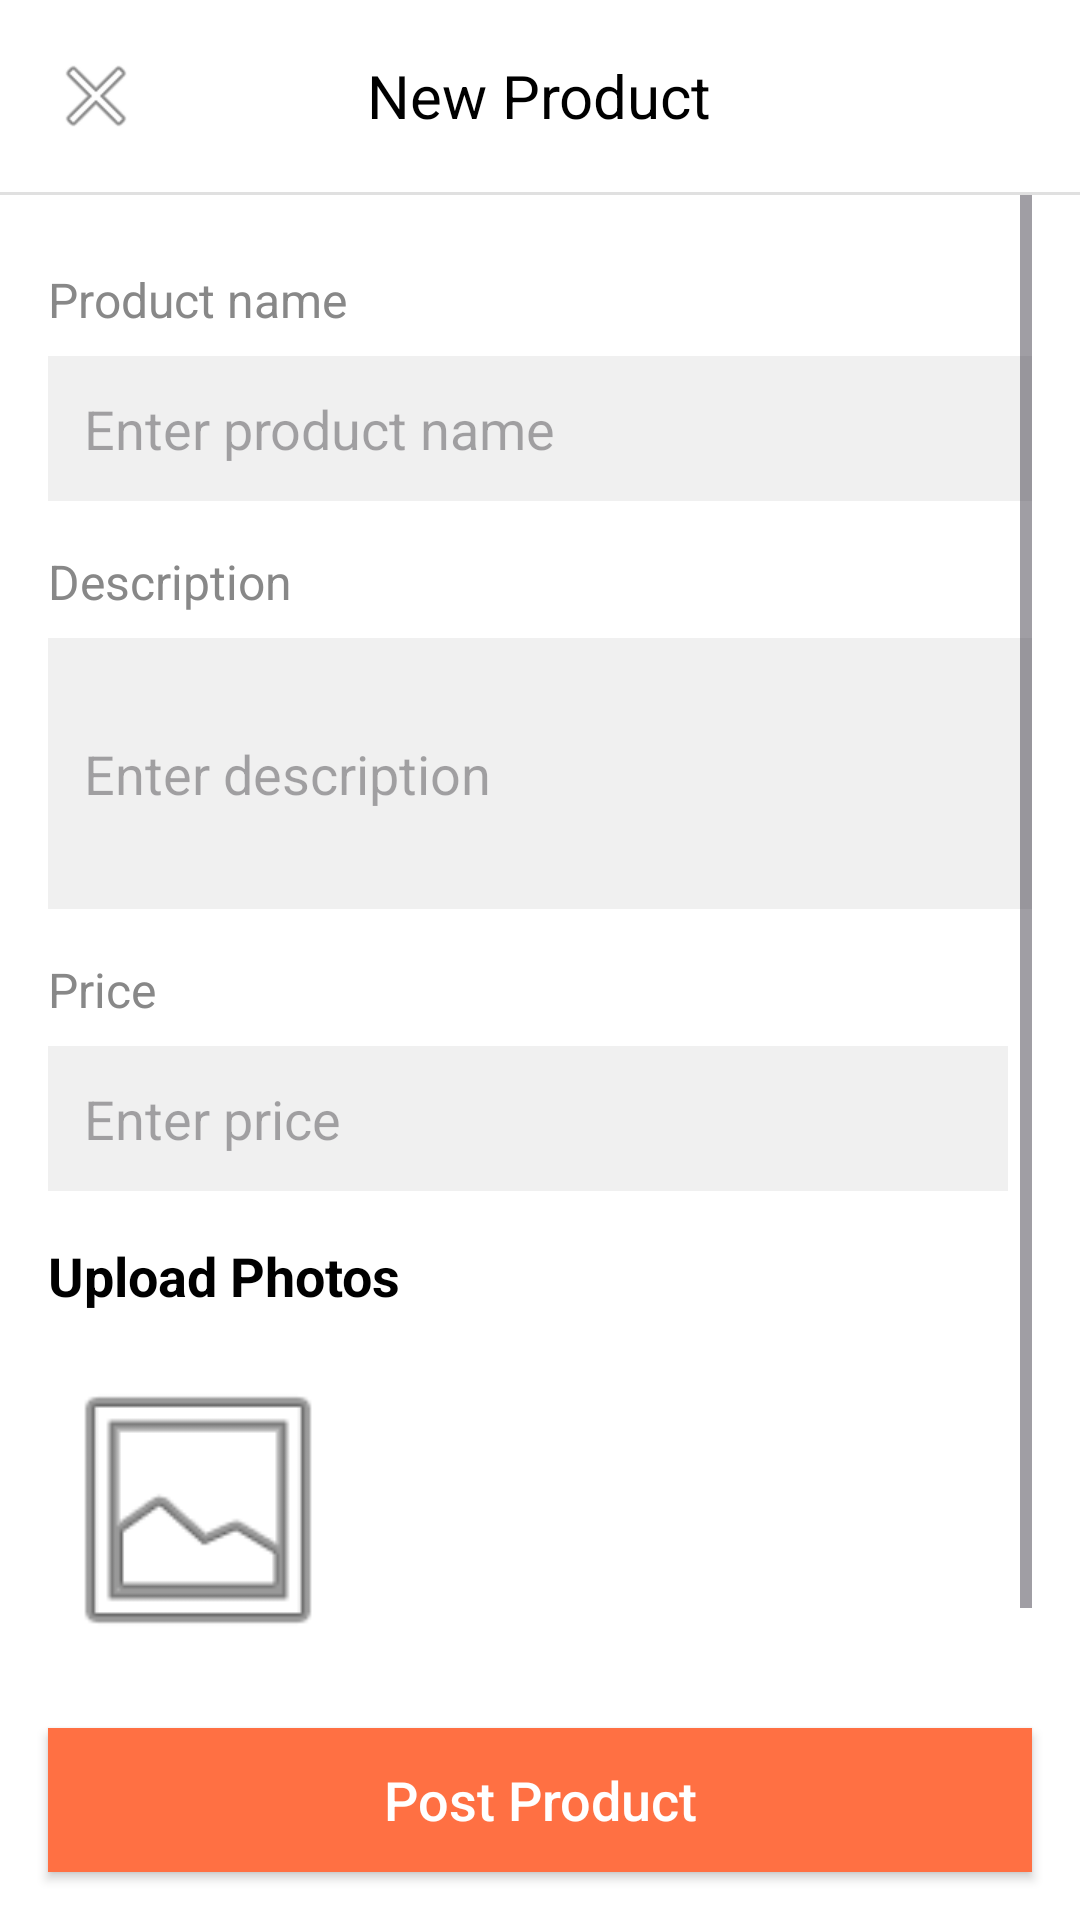

Where to tap for icons on this 1080px x 1920px app screen, as (x=x, y=y):
close clear cancel: (x=96, y=96)
gallery: (x=198, y=1510)
